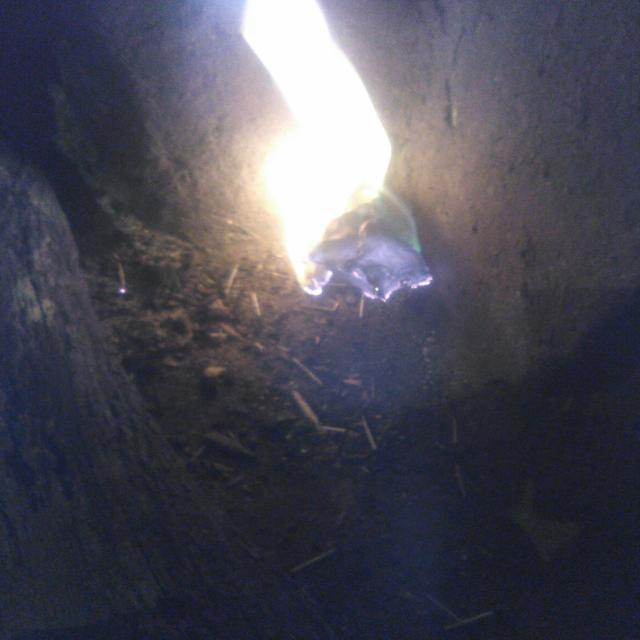Fire: (211, 0, 411, 290)
